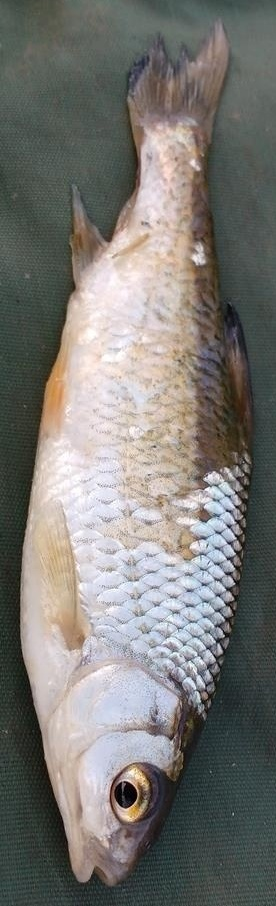Leuciscus leuciscus: (20, 20, 256, 886)
